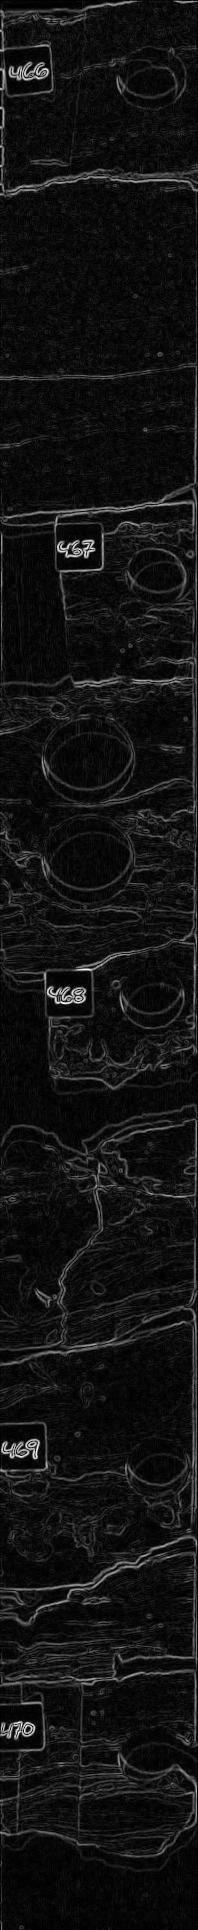hplug: (118, 1428, 196, 1507), (118, 538, 198, 611), (108, 44, 192, 112), (112, 958, 188, 1031), (109, 1722, 189, 1792)
scal: (34, 710, 144, 807), (36, 820, 141, 906)
vplug: (2, 510, 77, 707), (12, 1668, 90, 1840), (28, 7, 92, 167), (2, 960, 60, 1079)
